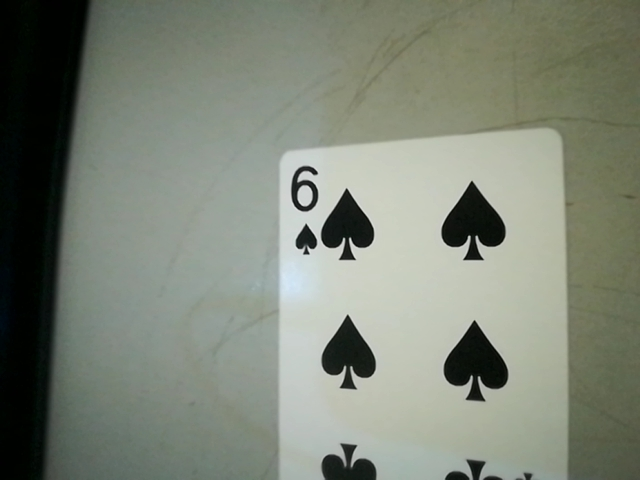ht 6: (277, 154, 327, 260)
